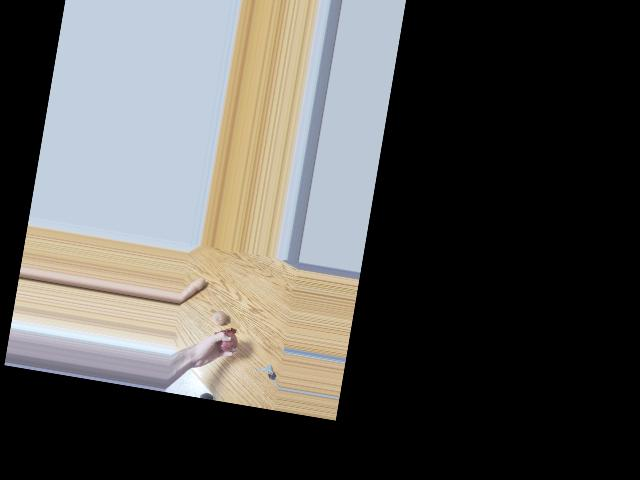onion: (218, 331, 239, 352)
